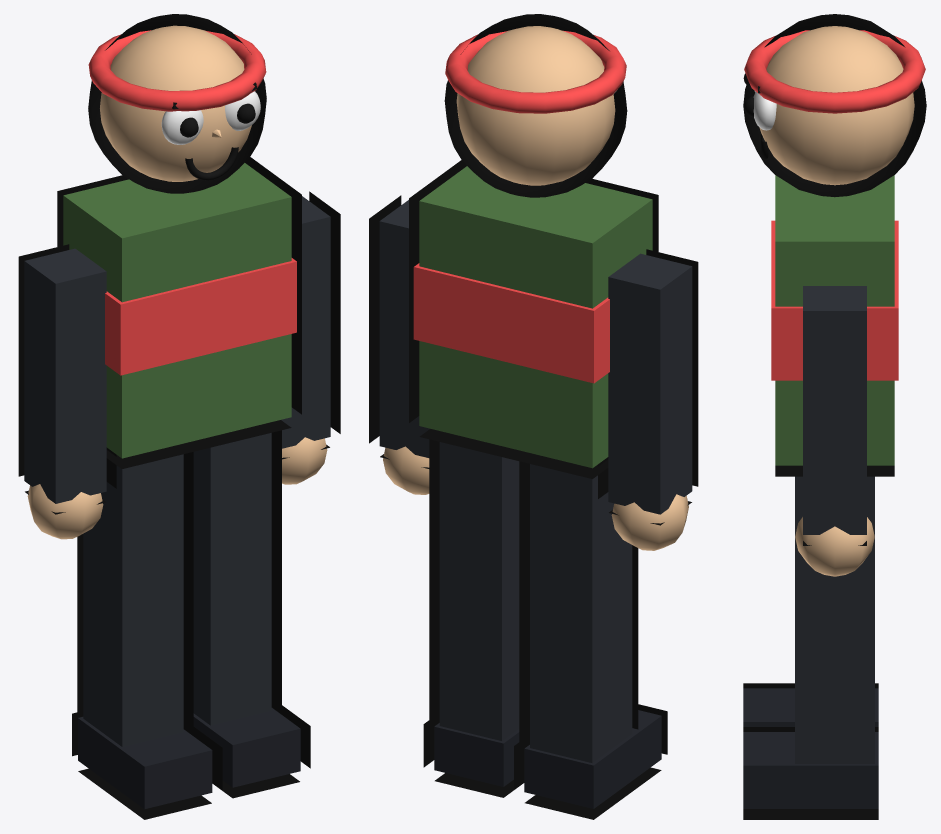
The model's file is human_red.glb.
3 renders of one model, left to right at view 1: azimuth 30°, elevation 25°; view 2: azimuth 150°, elevation 25°; view 3: azimuth 270°, elevation 25°, orthographic. The views are drawn at different scales.
Parts seen in each view (by area): view 1: human_red__part_2, human_red__part_27, human_red__part_32, human_red__part_19, human_red__part_4, human_red__part_6, human_red__part_29, human_red__part_23, human_red__headband, human_red__part_34, human_red__outline_3, human_red__outline_7 (+11 smaller); view 2: human_red__part_2, human_red__part_27, human_red__part_32, human_red__part_19, human_red__part_6, human_red__part_4, human_red__part_23, human_red__part_29, human_red__headband, human_red__outline_3, human_red__outline_7, human_red__outline_28 (+8 smaller); view 3: human_red__part_2, human_red__part_32, human_red__part_6, human_red__part_23, human_red__part_34, human_red__headband, human_red__part_4, human_red__outline_7, human_red__part_25, human_red__part_29, human_red__outline_35, human_red__outline_3 (+1 smaller).
Boxes of the visible parts, bbox=[...] form: human_red__part_2: bbox=[63, 163, 291, 458]; human_red__part_27: bbox=[83, 454, 183, 746]; human_red__part_32: bbox=[193, 433, 271, 725]; human_red__part_19: bbox=[24, 248, 106, 503]; human_red__part_4: bbox=[105, 258, 296, 375]; human_red__part_6: bbox=[100, 25, 251, 181]; human_red__part_29: bbox=[78, 717, 212, 809]; human_red__part_23: bbox=[281, 196, 330, 448]; human_red__headband: bbox=[88, 30, 266, 111]; human_red__part_34: bbox=[193, 708, 300, 787]; human_red__outline_3: bbox=[57, 157, 301, 468]; human_red__outline_7: bbox=[88, 14, 266, 193]; human_red__part_2: bbox=[419, 166, 652, 468]; human_red__part_27: bbox=[530, 464, 632, 762]; human_red__part_32: bbox=[439, 442, 519, 740]; human_red__part_19: bbox=[608, 253, 692, 514]; human_red__part_6: bbox=[456, 26, 615, 185]; human_red__part_4: bbox=[413, 263, 609, 383]; human_red__part_23: bbox=[379, 200, 429, 457]; human_red__part_29: bbox=[524, 710, 661, 808]; human_red__headband: bbox=[445, 30, 626, 113]; human_red__outline_3: bbox=[409, 160, 658, 478]; human_red__outline_7: bbox=[444, 14, 627, 197]; human_red__outline_28: bbox=[519, 461, 638, 763]; human_red__part_2: bbox=[775, 175, 894, 465]; human_red__part_32: bbox=[795, 476, 874, 763]; human_red__part_6: bbox=[759, 26, 914, 185]; human_red__part_23: bbox=[803, 286, 866, 534]; human_red__part_34: bbox=[743, 732, 878, 808]; human_red__headband: bbox=[744, 30, 925, 113]; human_red__part_4: bbox=[771, 220, 898, 380]; human_red__outline_7: bbox=[743, 14, 926, 197]; human_red__part_25: bbox=[795, 517, 874, 576]; human_red__part_29: bbox=[743, 688, 878, 726]; human_red__outline_35: bbox=[743, 727, 878, 819]; human_red__outline_3: bbox=[775, 465, 894, 476].
Bounding box in the file's own units: 0.87 × 2.1 × 0.49.
